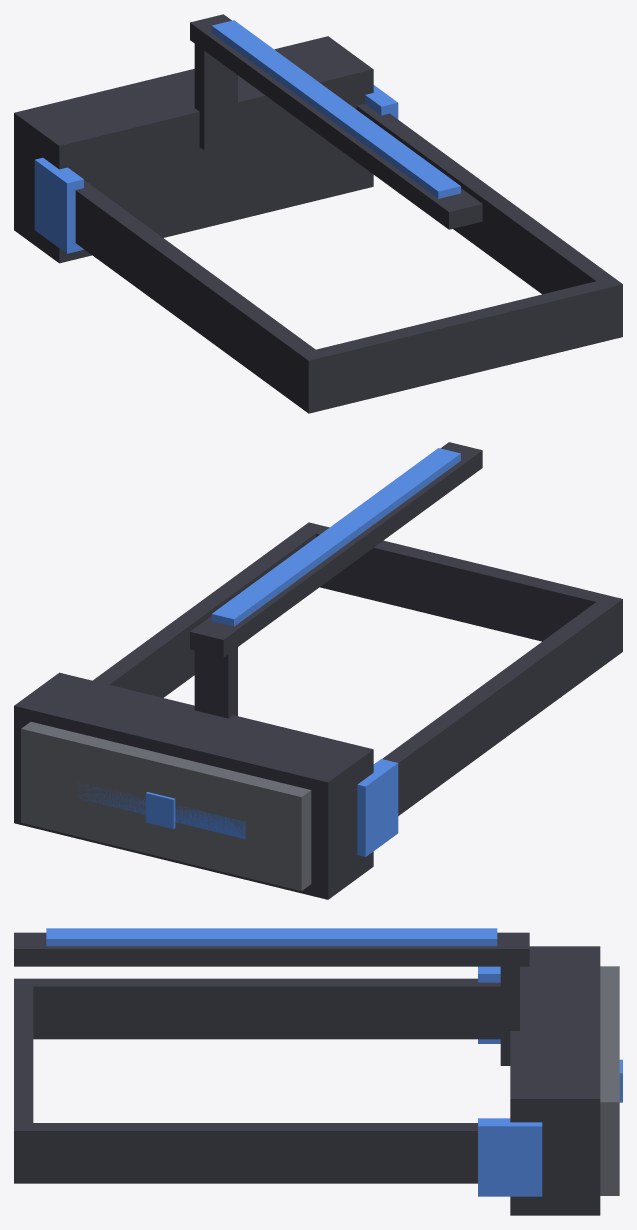
The model's file is visor_realidade_virtual.glb.
3 views of the same model, one above another, from view 1: azimuth 30°, elevation 25°; view 2: azimuth 150°, elevation 25°; view 3: azimuth 270°, elevation 25° (orthographic).
Visible parts, largest first — view 1: visor_realidade_virtual; view 2: visor_realidade_virtual; view 3: visor_realidade_virtual.
Boxes of the visible parts, bbox=[...] form: visor_realidade_virtual: bbox=[14, 14, 622, 413]; visor_realidade_virtual: bbox=[14, 442, 622, 899]; visor_realidade_virtual: bbox=[14, 928, 622, 1215].
Bounding box in the file's own units: 0.59 × 0.3525 × 0.945.
